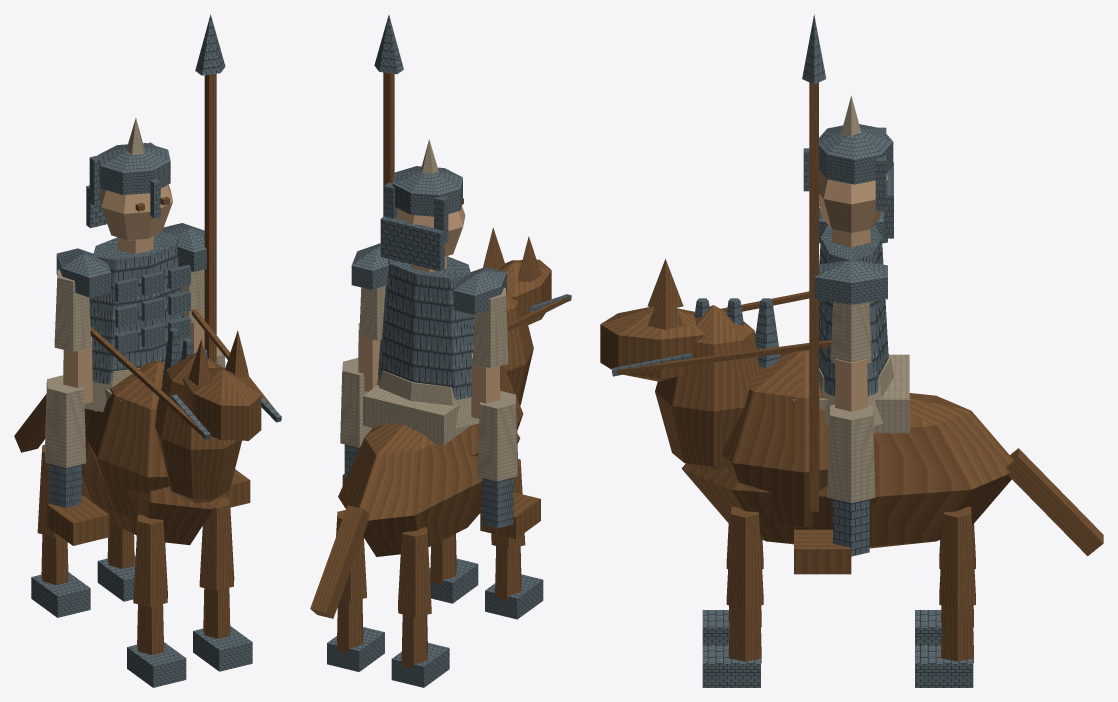
The model's file is unit-CAVALRY-lod0.glb.
3 renders of one model, left to right at view 1: azimuth 30°, elevation 25°; view 2: azimuth 150°, elevation 25°; view 3: azimuth 270°, elevation 25°, orthographic. The views are drawn at different scales.
Bounding box in the file's own units: 0.218 × 0.705 × 0.4738.
Materials: 1 (1 with a texture image).
